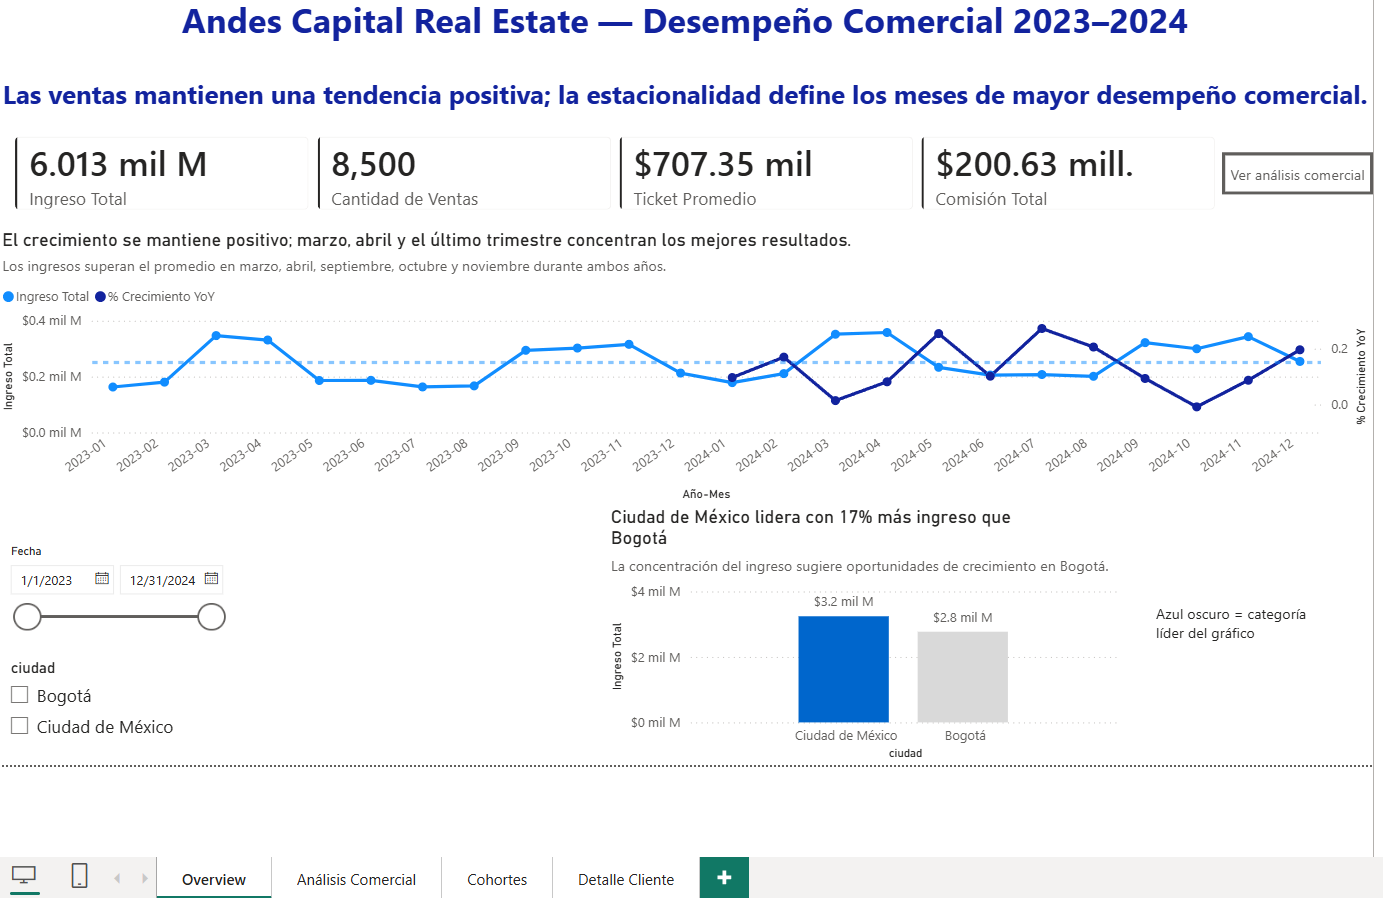

Layout of this report page (visuals, bound fields, positions):
{"tool":"powerbi","page":{"name":"Overview","canvas":[1280,720],"ordinal":0},"visuals":[{"type":"cardVisual","fields":{"Data":["hecho_ventas_propiedades.Ingreso Total","hecho_ventas_propiedades.Cantidad de Ventas","hecho_ventas_propiedades.Ticket Promedio","hecho_ventas_propiedades.Comisión Total"]},"box":[0,118.6,1150,102.3],"z":0},{"type":"lineChart","title":"El crecimiento se mantiene positivo; marzo, abril y el último trimestre concentran los mejores resultados.","fields":{"Category":["Dim_Fecha.Año-Mes"],"Y":["hecho_ventas_propiedades.Ingreso Total"],"Y2":["Dim_Fecha.% Crecimiento YoY"]},"box":[0,220.9,1280.2,258.1],"z":1000},{"type":"clusteredColumnChart","title":"Ciudad de México lidera con 17% más ingreso que Bogotá","fields":{"Category":["dim_propiedades.ciudad"],"Y":["hecho_ventas_propiedades.Ingreso Total"]},"box":[566.3,479.1,483.7,240.7],"z":2000},{"type":"textbox","box":[0,74.4,1280.2,60.5],"z":3000},{"type":"actionButton","box":[1139.5,150,140.7,39.5],"z":4000},{"type":"slicer","fields":{"Values":["Dim_Fecha.Date"]},"box":[0,509.3,220.9,107],"z":5000},{"type":"slicer","fields":{"Values":["dim_clientes.ciudad"]},"box":[0,616.3,220.9,103.5],"z":6000},{"type":"textbox","box":[1073.3,565.1,154.7,51.2],"z":7000},{"type":"textbox","box":[0,0,1280.2,74.4],"z":8000}]}

Visuals, with their boxes on the page's 1280x720 design canvas (x1, y1, x2, y2). These are canvas units, not pixel positions in the 1383x898 screenshot, which may show the page scaled, cropped or inside an application window:
cardVisual - hecho_ventas_propiedades.Ingreso Total x hecho_ventas_propiedades.Cantidad de Ventas: {"left": 0, "top": 119, "right": 1150, "bottom": 221}
"El crecimiento se mantiene positivo; marzo, abril y el último trimestre concentran los mejores resultados." lineChart: {"left": 0, "top": 221, "right": 1280, "bottom": 479}
"Ciudad de México lidera con 17% más ingreso que Bogotá" clusteredColumnChart: {"left": 566, "top": 479, "right": 1050, "bottom": 720}
textbox: {"left": 0, "top": 74, "right": 1280, "bottom": 135}
actionButton: {"left": 1140, "top": 150, "right": 1280, "bottom": 190}
slicer - Dim_Fecha.Date: {"left": 0, "top": 509, "right": 221, "bottom": 616}
slicer - dim_clientes.ciudad: {"left": 0, "top": 616, "right": 221, "bottom": 720}
textbox: {"left": 1073, "top": 565, "right": 1228, "bottom": 616}
textbox: {"left": 0, "top": 0, "right": 1280, "bottom": 74}
